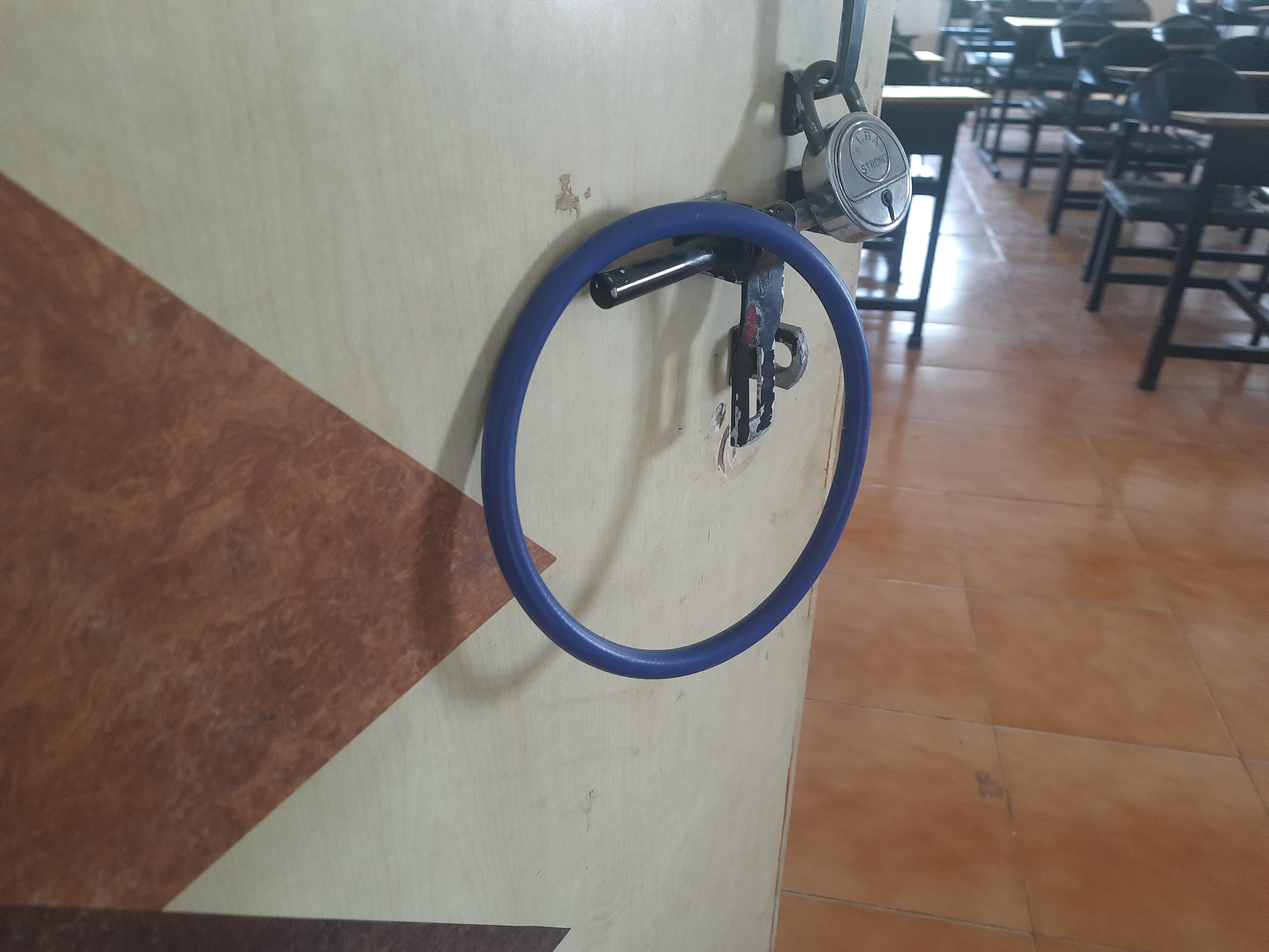Blue ring: (482, 201, 877, 679)
